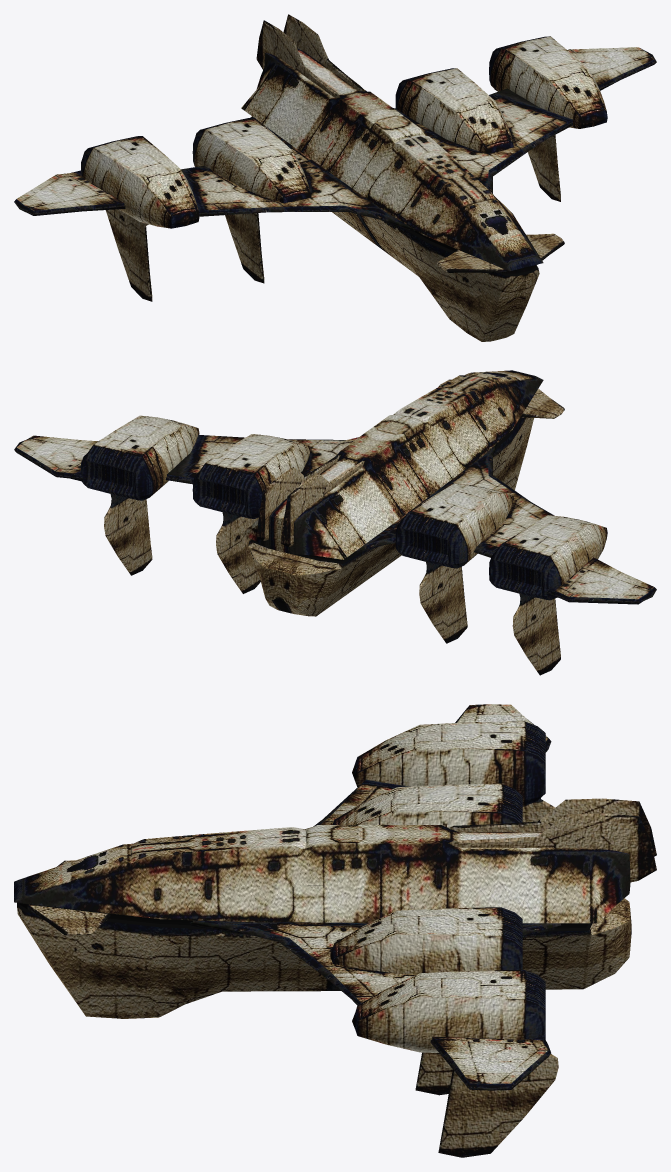
File: goddard_merchant.gltf
The picture shows the model from 3 angles, top to bottom: view 1: azimuth 30°, elevation 25°; view 2: azimuth 150°, elevation 25°; view 3: azimuth 270°, elevation 25°; orthographic projection. The views are drawn at different scales.
Visible parts, largest first — view 1: base; view 2: base; view 3: base.
Boxes of the visible parts, x1,y1,x2,y2 form: base: [14, 14, 656, 341]; base: [14, 370, 656, 675]; base: [14, 704, 656, 1157].
Size of the model in its own units: 28.84 by 7.93 by 20.32.
1 material, 1 textured.
